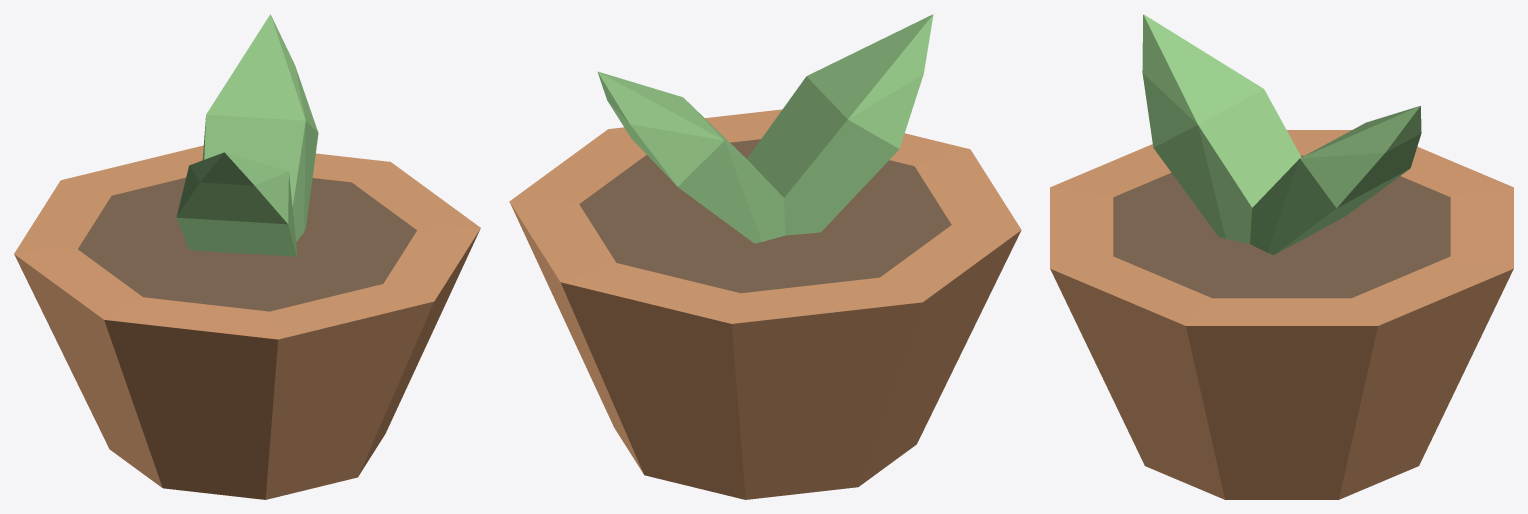
File: flowerpot_d1.glb
3 views of the same model, side by side, from view 1: azimuth 30°, elevation 25°; view 2: azimuth 150°, elevation 25°; view 3: azimuth 270°, elevation 25° (orthographic). The views are drawn at different scales.
Visible parts, largest first — view 1: flowerpot_d1_pot_with_soil_face, flowerpot_d1_leaf_01_green, flowerpot_d1_leaf_02_green; view 2: flowerpot_d1_pot_with_soil_face, flowerpot_d1_leaf_02_green, flowerpot_d1_leaf_01_green; view 3: flowerpot_d1_pot_with_soil_face, flowerpot_d1_leaf_02_green, flowerpot_d1_leaf_01_green.
Part boxes in pixels (x1=…): flowerpot_d1_pot_with_soil_face: x1=14, y1=145, x2=480, y2=499; flowerpot_d1_leaf_01_green: x1=202, y1=14, x2=318, y2=241; flowerpot_d1_leaf_02_green: x1=176, y1=152, x2=296, y2=256; flowerpot_d1_pot_with_soil_face: x1=509, y1=109, x2=1021, y2=499; flowerpot_d1_leaf_02_green: x1=747, y1=14, x2=933, y2=235; flowerpot_d1_leaf_01_green: x1=597, y1=71, x2=785, y2=243; flowerpot_d1_pot_with_soil_face: x1=1050, y1=130, x2=1513, y2=499; flowerpot_d1_leaf_02_green: x1=1142, y1=14, x2=1301, y2=243; flowerpot_d1_leaf_01_green: x1=1250, y1=106, x2=1421, y2=254.
Size of the model in its own units: 0.22 by 0.2 by 0.22.
